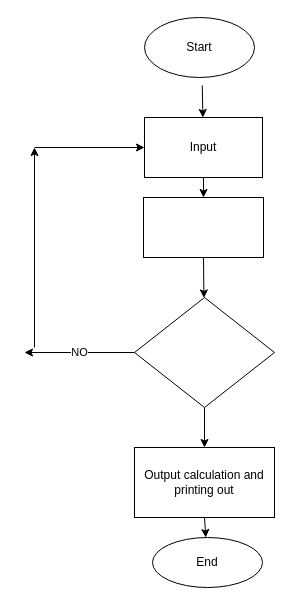
This 292x605 diagram has some shape labels left out. Each missing label, with the centre of its shape:
"Input collector" goes at (x=203, y=227).
"Is 0?" goes at (x=204, y=352).
